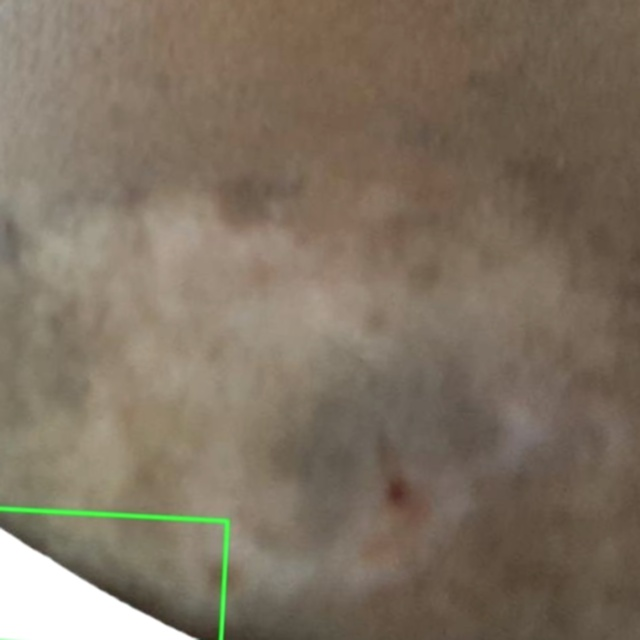Contact Dermatitis: (0, 508, 227, 639)
